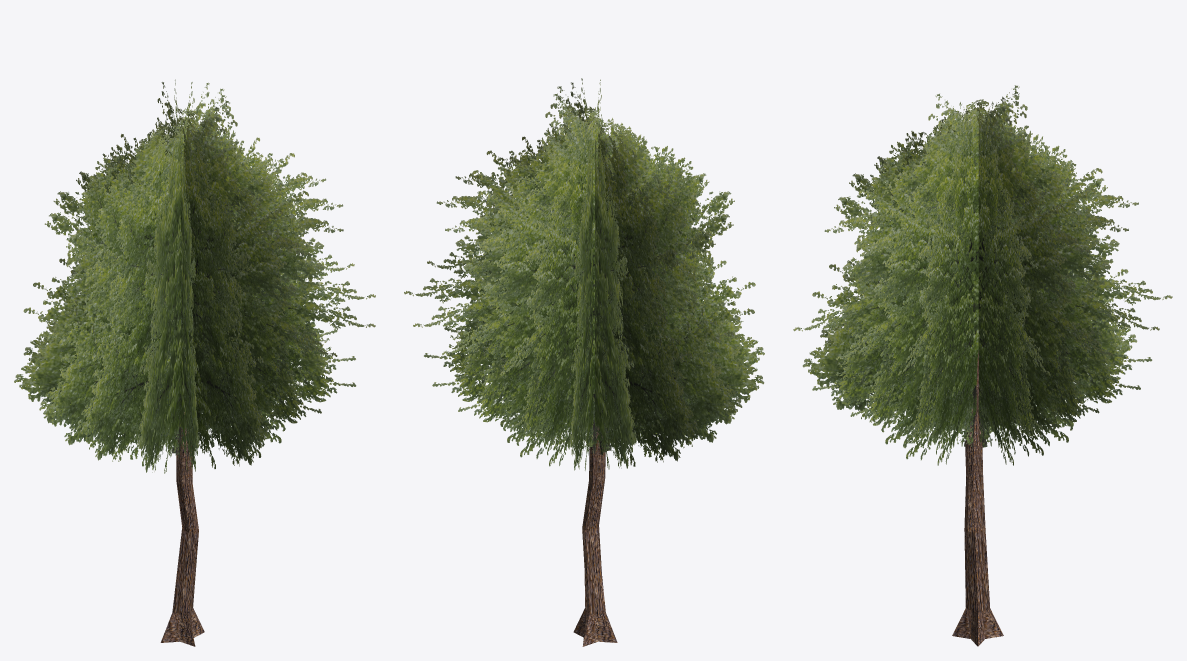
File: tree2.fbx
The picture shows the model from 3 angles, left to right: view 1: azimuth 30°, elevation 25°; view 2: azimuth 150°, elevation 25°; view 3: azimuth 270°, elevation 25°; orthographic projection.
Visible parts, largest first — view 1: tree2; view 2: tree2; view 3: tree2.
Boxes of the visible parts, x1,y1,x2,y2 form: tree2: (14,79,375,646); tree2: (404,78,764,646); tree2: (793,85,1172,646).
Size of the model in its own units: 108 by 177 by 110.
2 materials, 2 textured.
